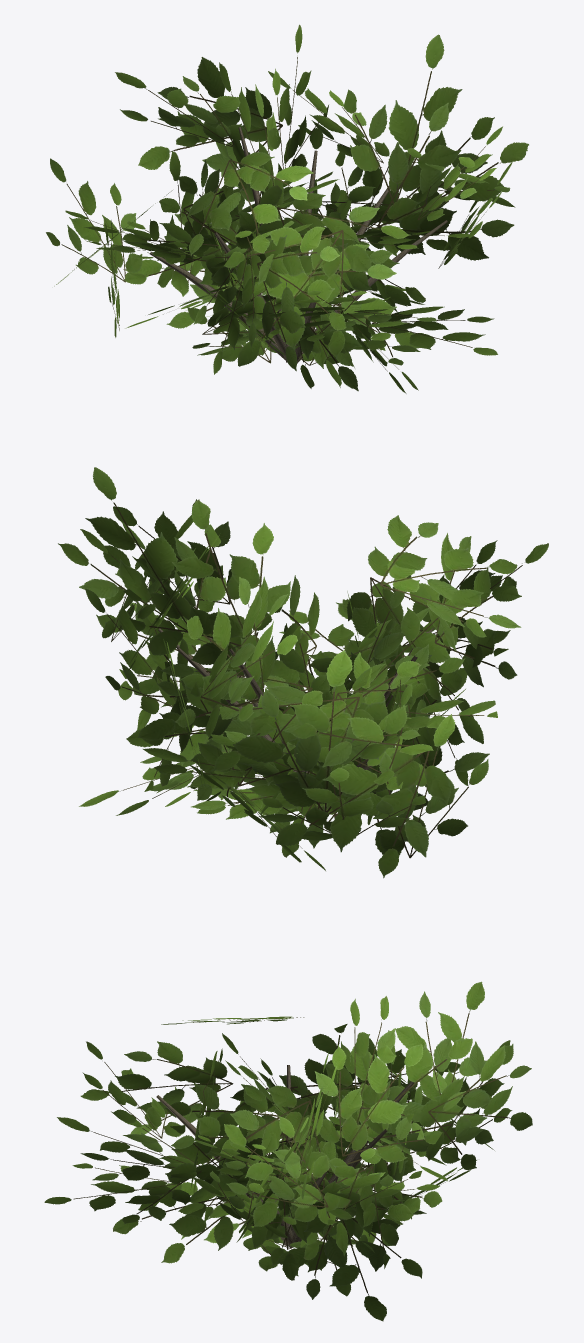
File: bush_leafy.glb
3 renders of one model, top to bottom at view 1: azimuth 30°, elevation 25°; view 2: azimuth 150°, elevation 25°; view 3: azimuth 270°, elevation 25°, orthographic. The views are drawn at different scales.
Parts seen in each view (by area): view 1: plant; view 2: plant; view 3: plant.
Part boxes in pixels (x1=…): plant: x1=46, y1=24, x2=528, y2=393; plant: x1=58, y1=467, x2=548, y2=878; plant: x1=44, y1=981, x2=532, y2=1321.
Bounding box in the file's own units: 1.99 × 1.3 × 2.18.
Materials: 2 (2 with a texture image).
